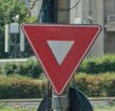cedeaza: (19, 21, 104, 99)
